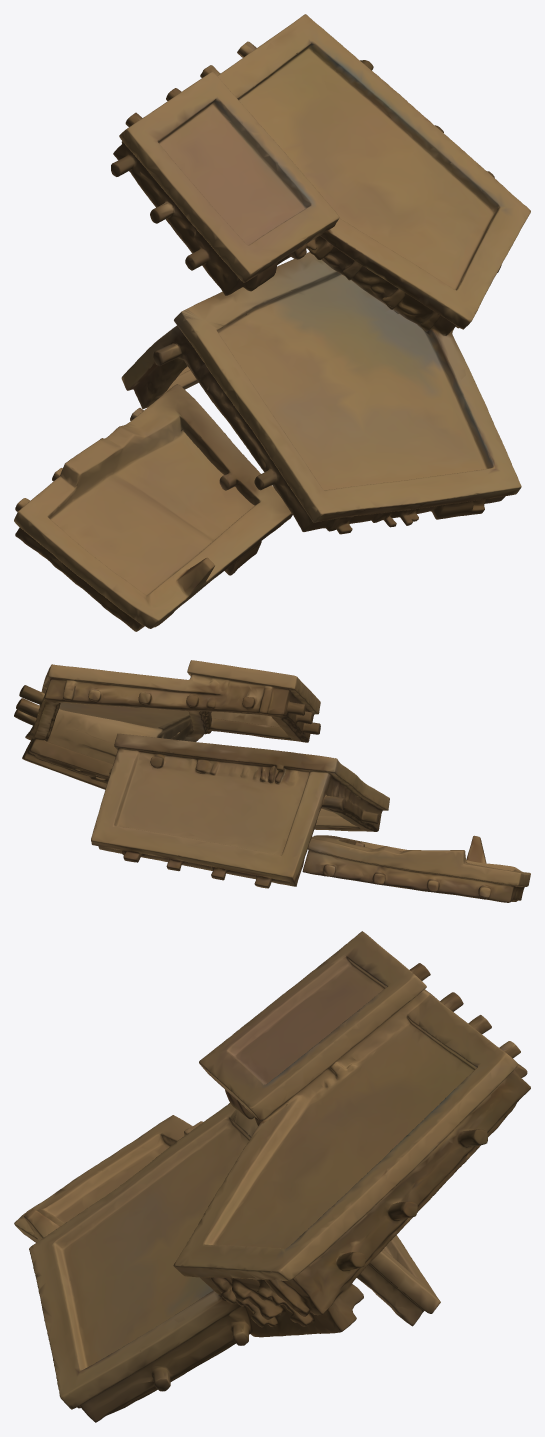
The model's file is building-4.fbx.
3 views of the same model, one above another, from view 1: azimuth 30°, elevation 25°; view 2: azimuth 150°, elevation 25°; view 3: azimuth 270°, elevation 25° (orthographic). The views are drawn at different scales.
Visible parts, largest first — view 1: image_Stylized_architectural_model_of_a_building_Hunyuan_3D.; view 2: image_Stylized_architectural_model_of_a_building_Hunyuan_3D.; view 3: image_Stylized_architectural_model_of_a_building_Hunyuan_3D..
Part boxes in pixels (x1,y1,x2,y2): image_Stylized_architectural_model_of_a_building_Hunyuan_3D.: [14, 14, 530, 631]; image_Stylized_architectural_model_of_a_building_Hunyuan_3D.: [14, 660, 530, 902]; image_Stylized_architectural_model_of_a_building_Hunyuan_3D.: [14, 931, 530, 1422].
Bounding box in the file's own units: 4245 × 2685 × 3163.
